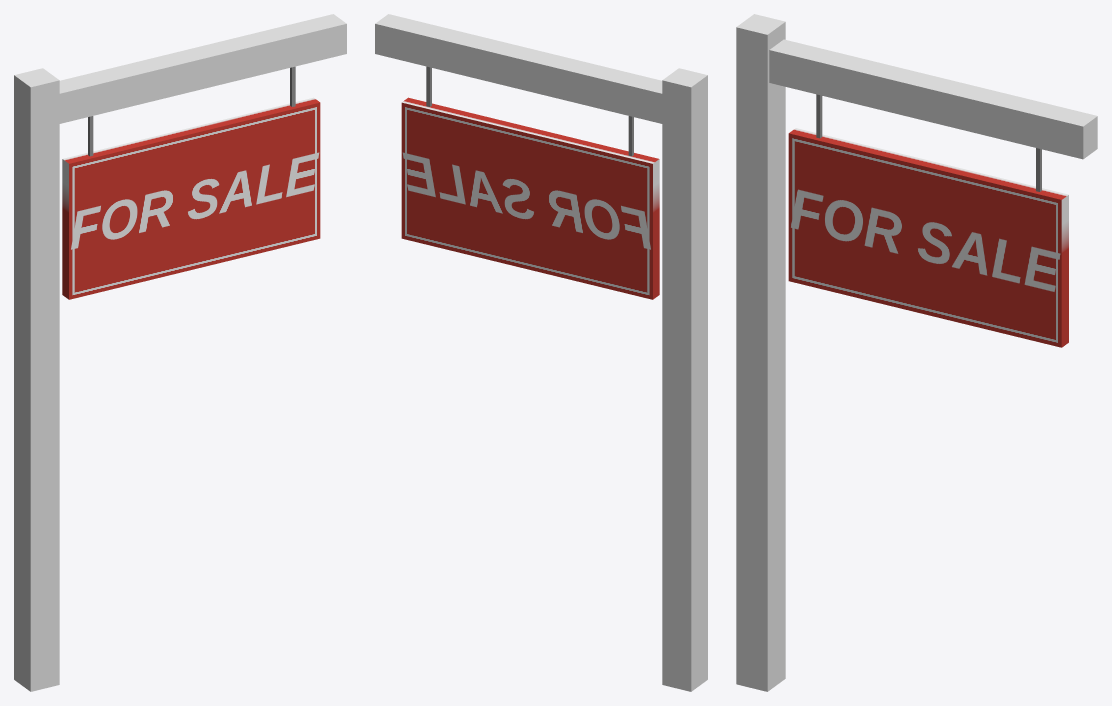
File: ForSaleSign.obj
The picture shows the model from 3 angles, left to right: view 1: azimuth 30°, elevation 25°; view 2: azimuth 150°, elevation 25°; view 3: azimuth 330°, elevation 25°; orthographic projection. The views are drawn at different scales.
Visible parts, largest first — view 1: Sign, Post, Arm; view 2: Sign, Post, Arm; view 3: Sign, Post, Arm.
Part boxes in pixels (x1,y1,x2,y2): Sign: (62, 97, 320, 299); Post: (14, 68, 59, 691); Arm: (15, 14, 346, 129); Sign: (401, 97, 659, 299); Post: (662, 68, 707, 691); Arm: (375, 14, 706, 130); Sign: (788, 128, 1068, 347); Post: (736, 14, 785, 691); Arm: (769, 39, 1097, 159).
Bounding box in the file's own units: 1.1 × 2 × 0.1.
Materials: 3 (1 with a texture image).
